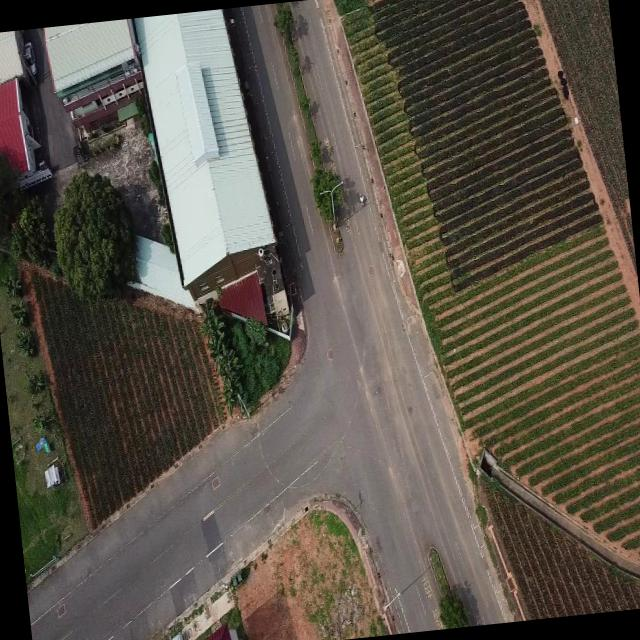bike: (358, 192, 366, 208)
car: (22, 41, 36, 78)
